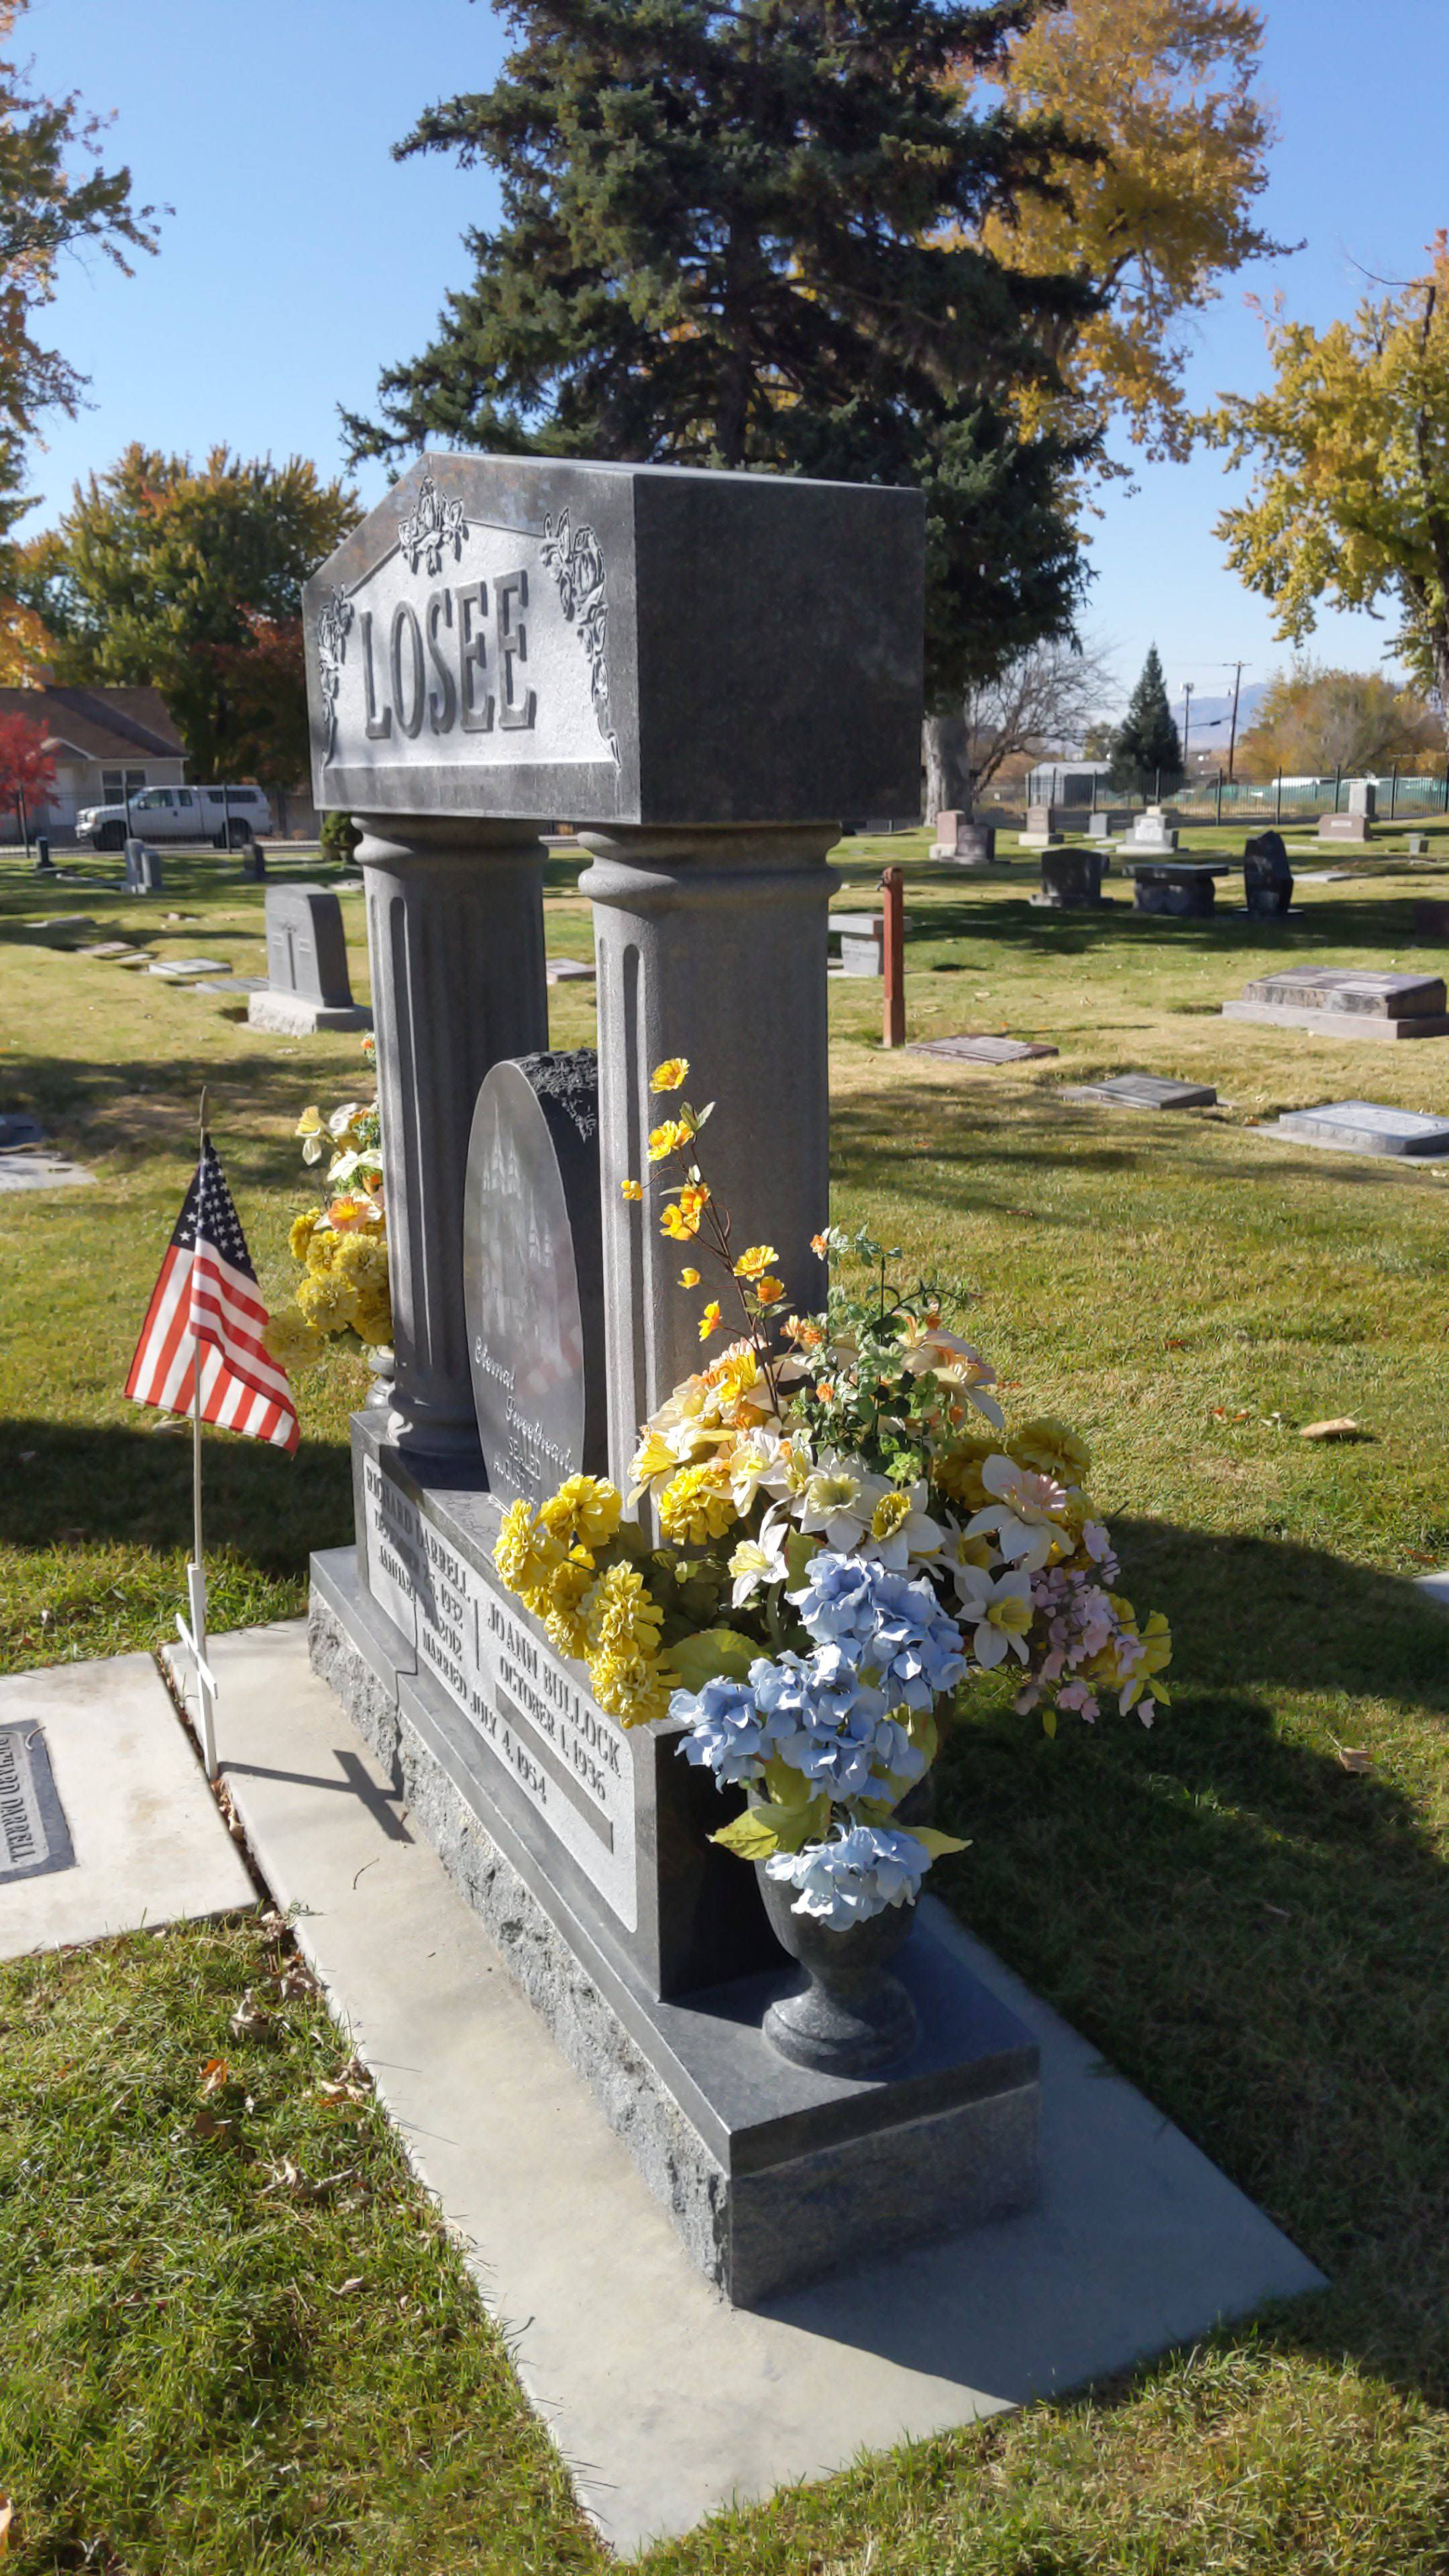statue: (301, 444, 1053, 2325)
